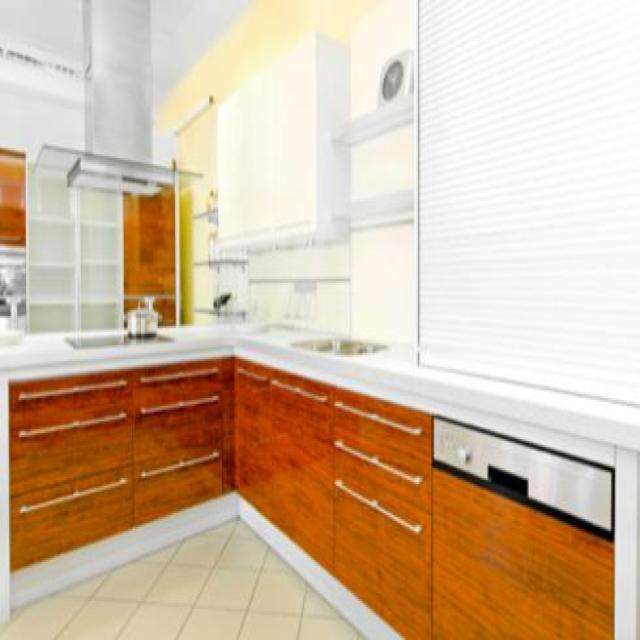dishwasher: (431, 414, 614, 638)
